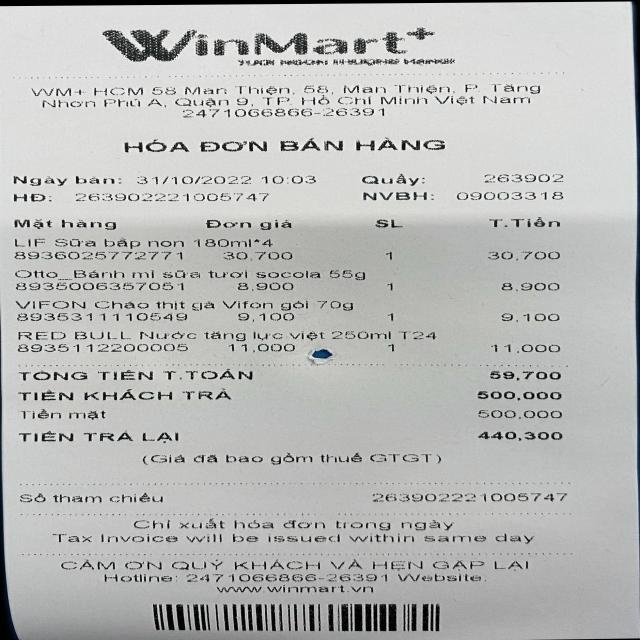Date: (129, 171, 258, 188)
Store_Name: (42, 17, 480, 72)
amount_number: (468, 366, 582, 384)
label_total: (17, 366, 267, 385)
